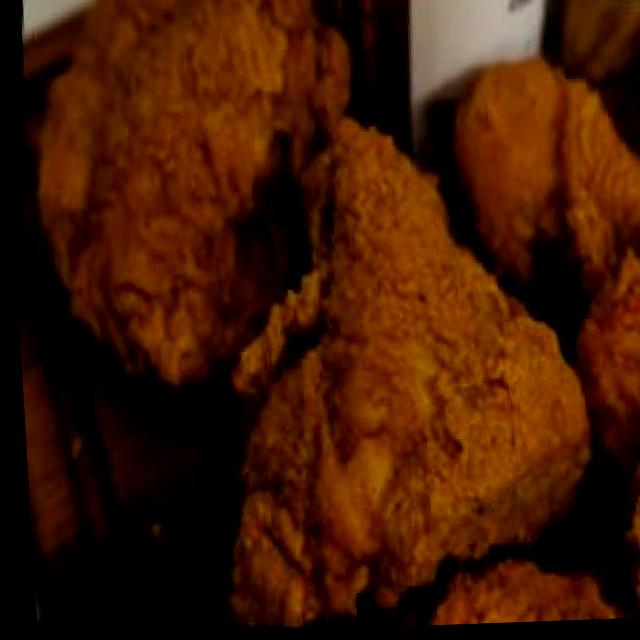fried chicken: (10, 0, 640, 632)
